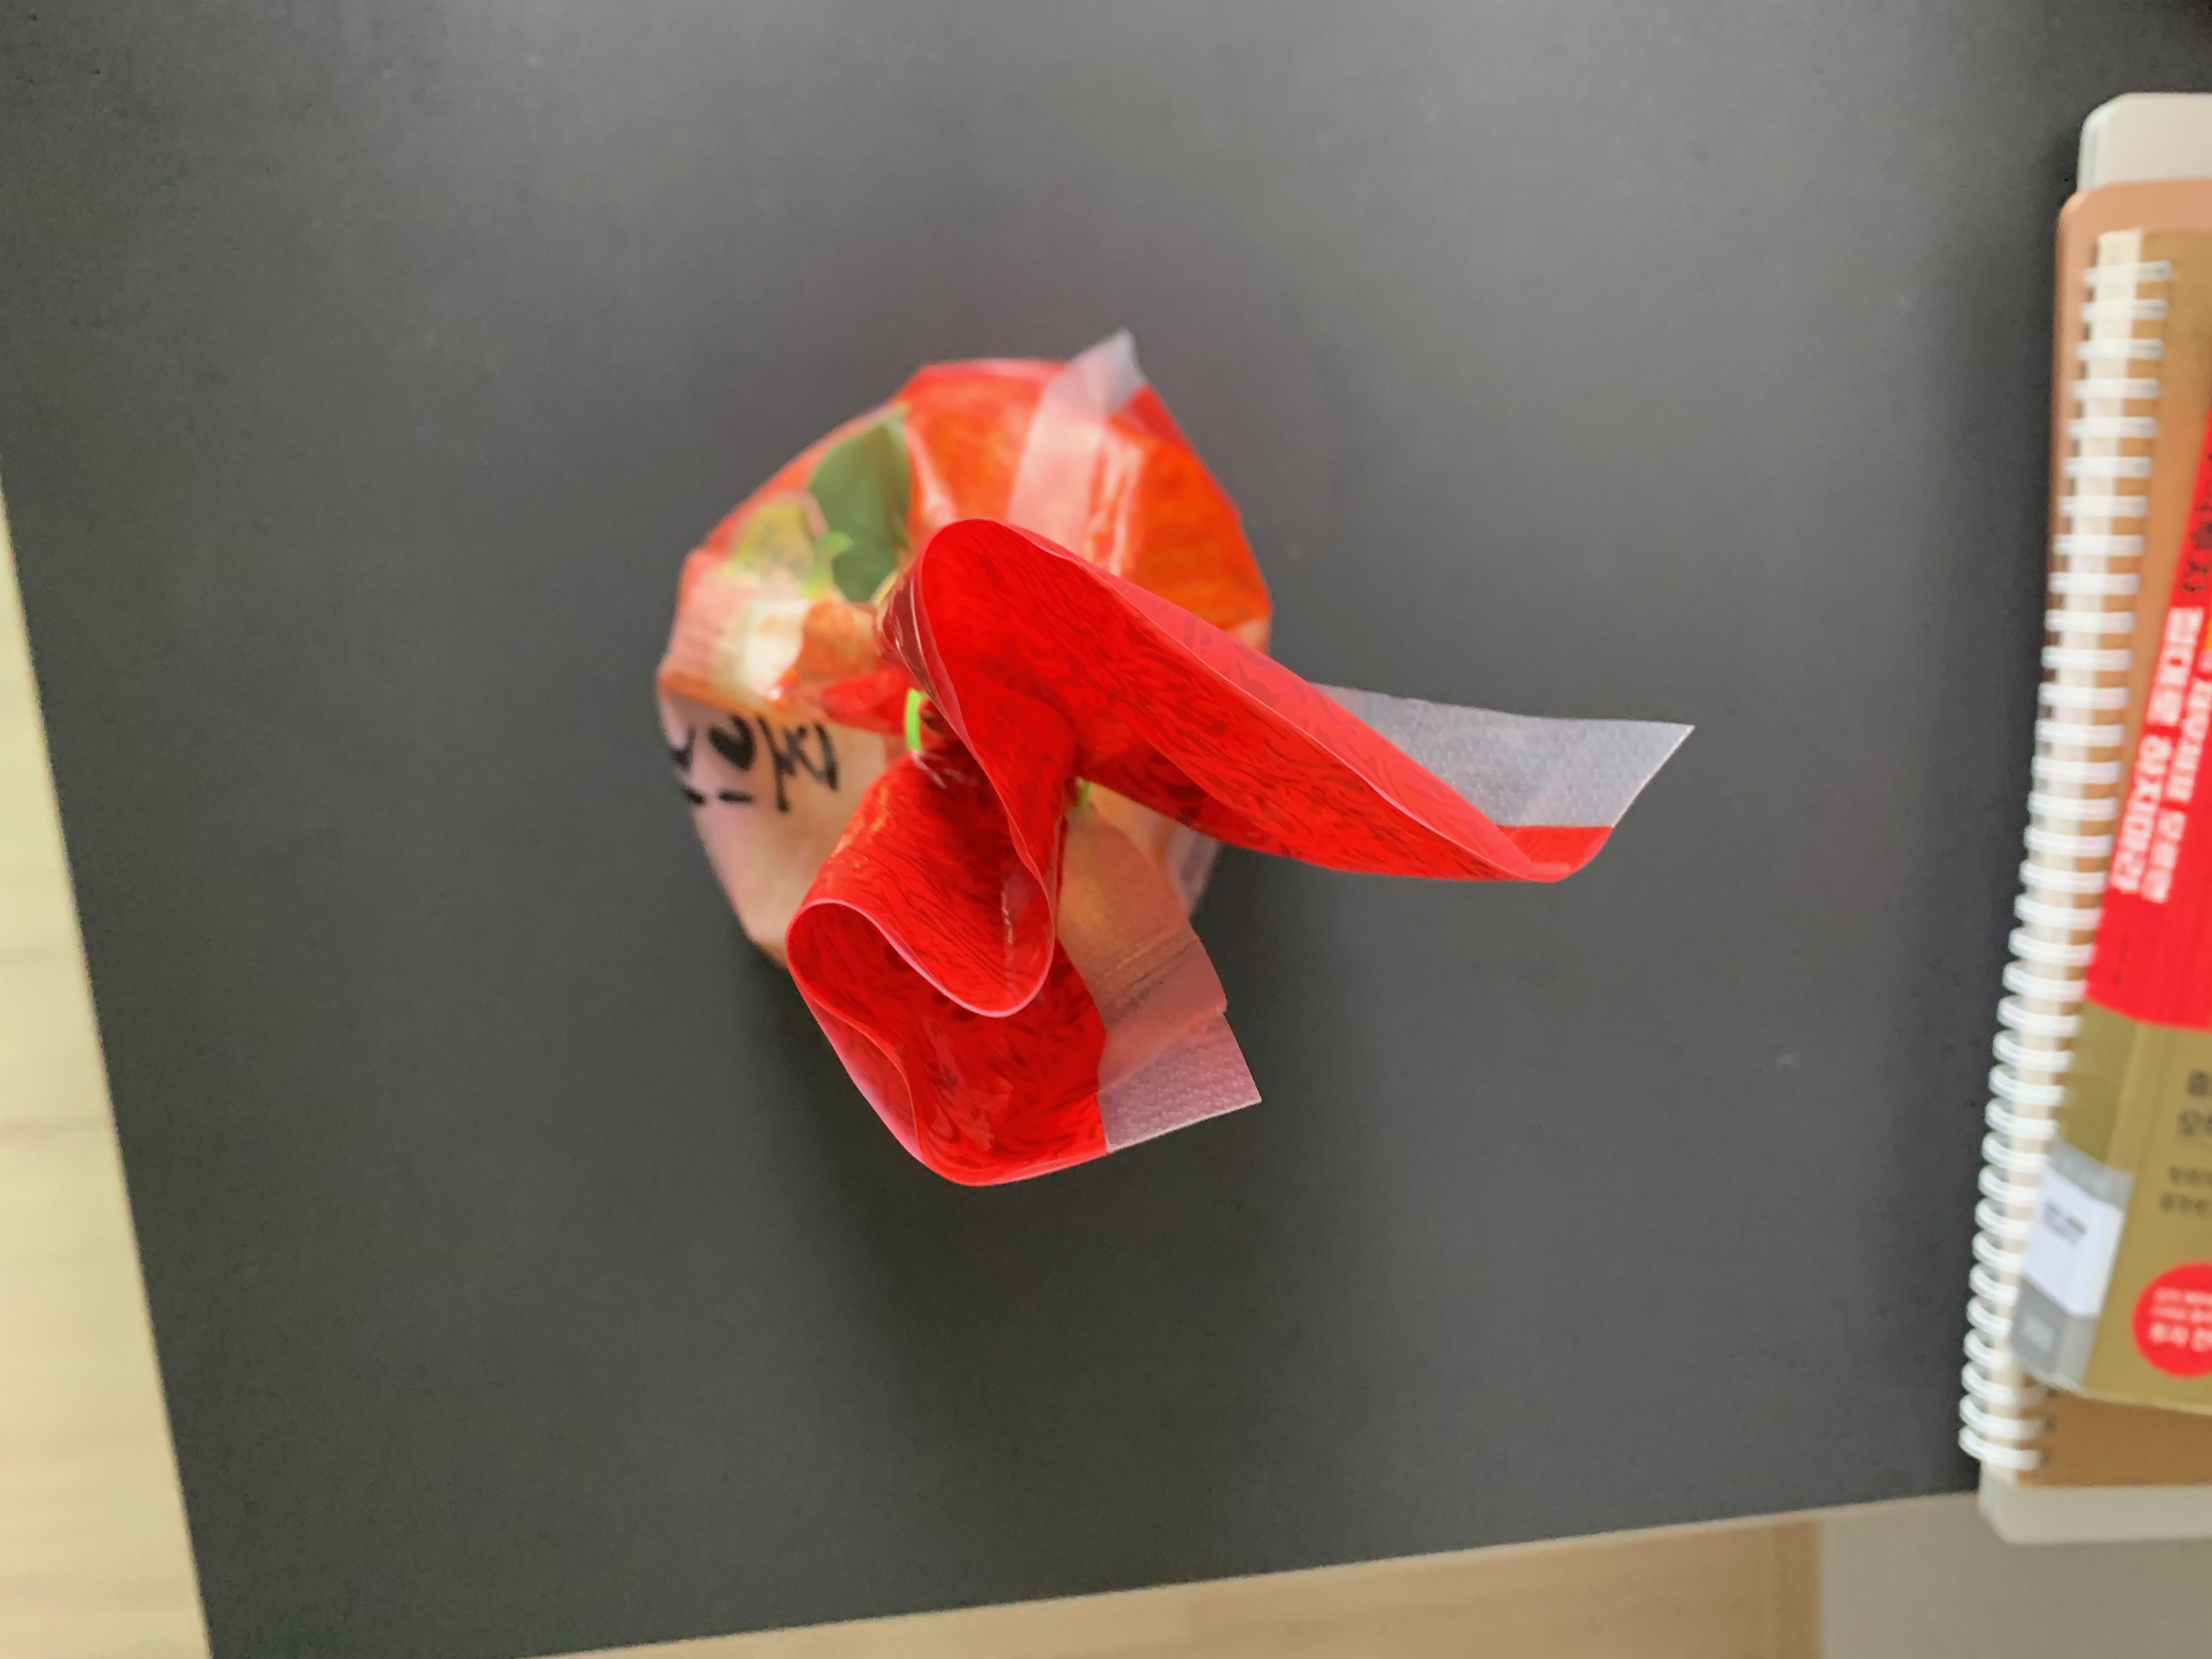kimchi: (653, 356, 1599, 1185)
